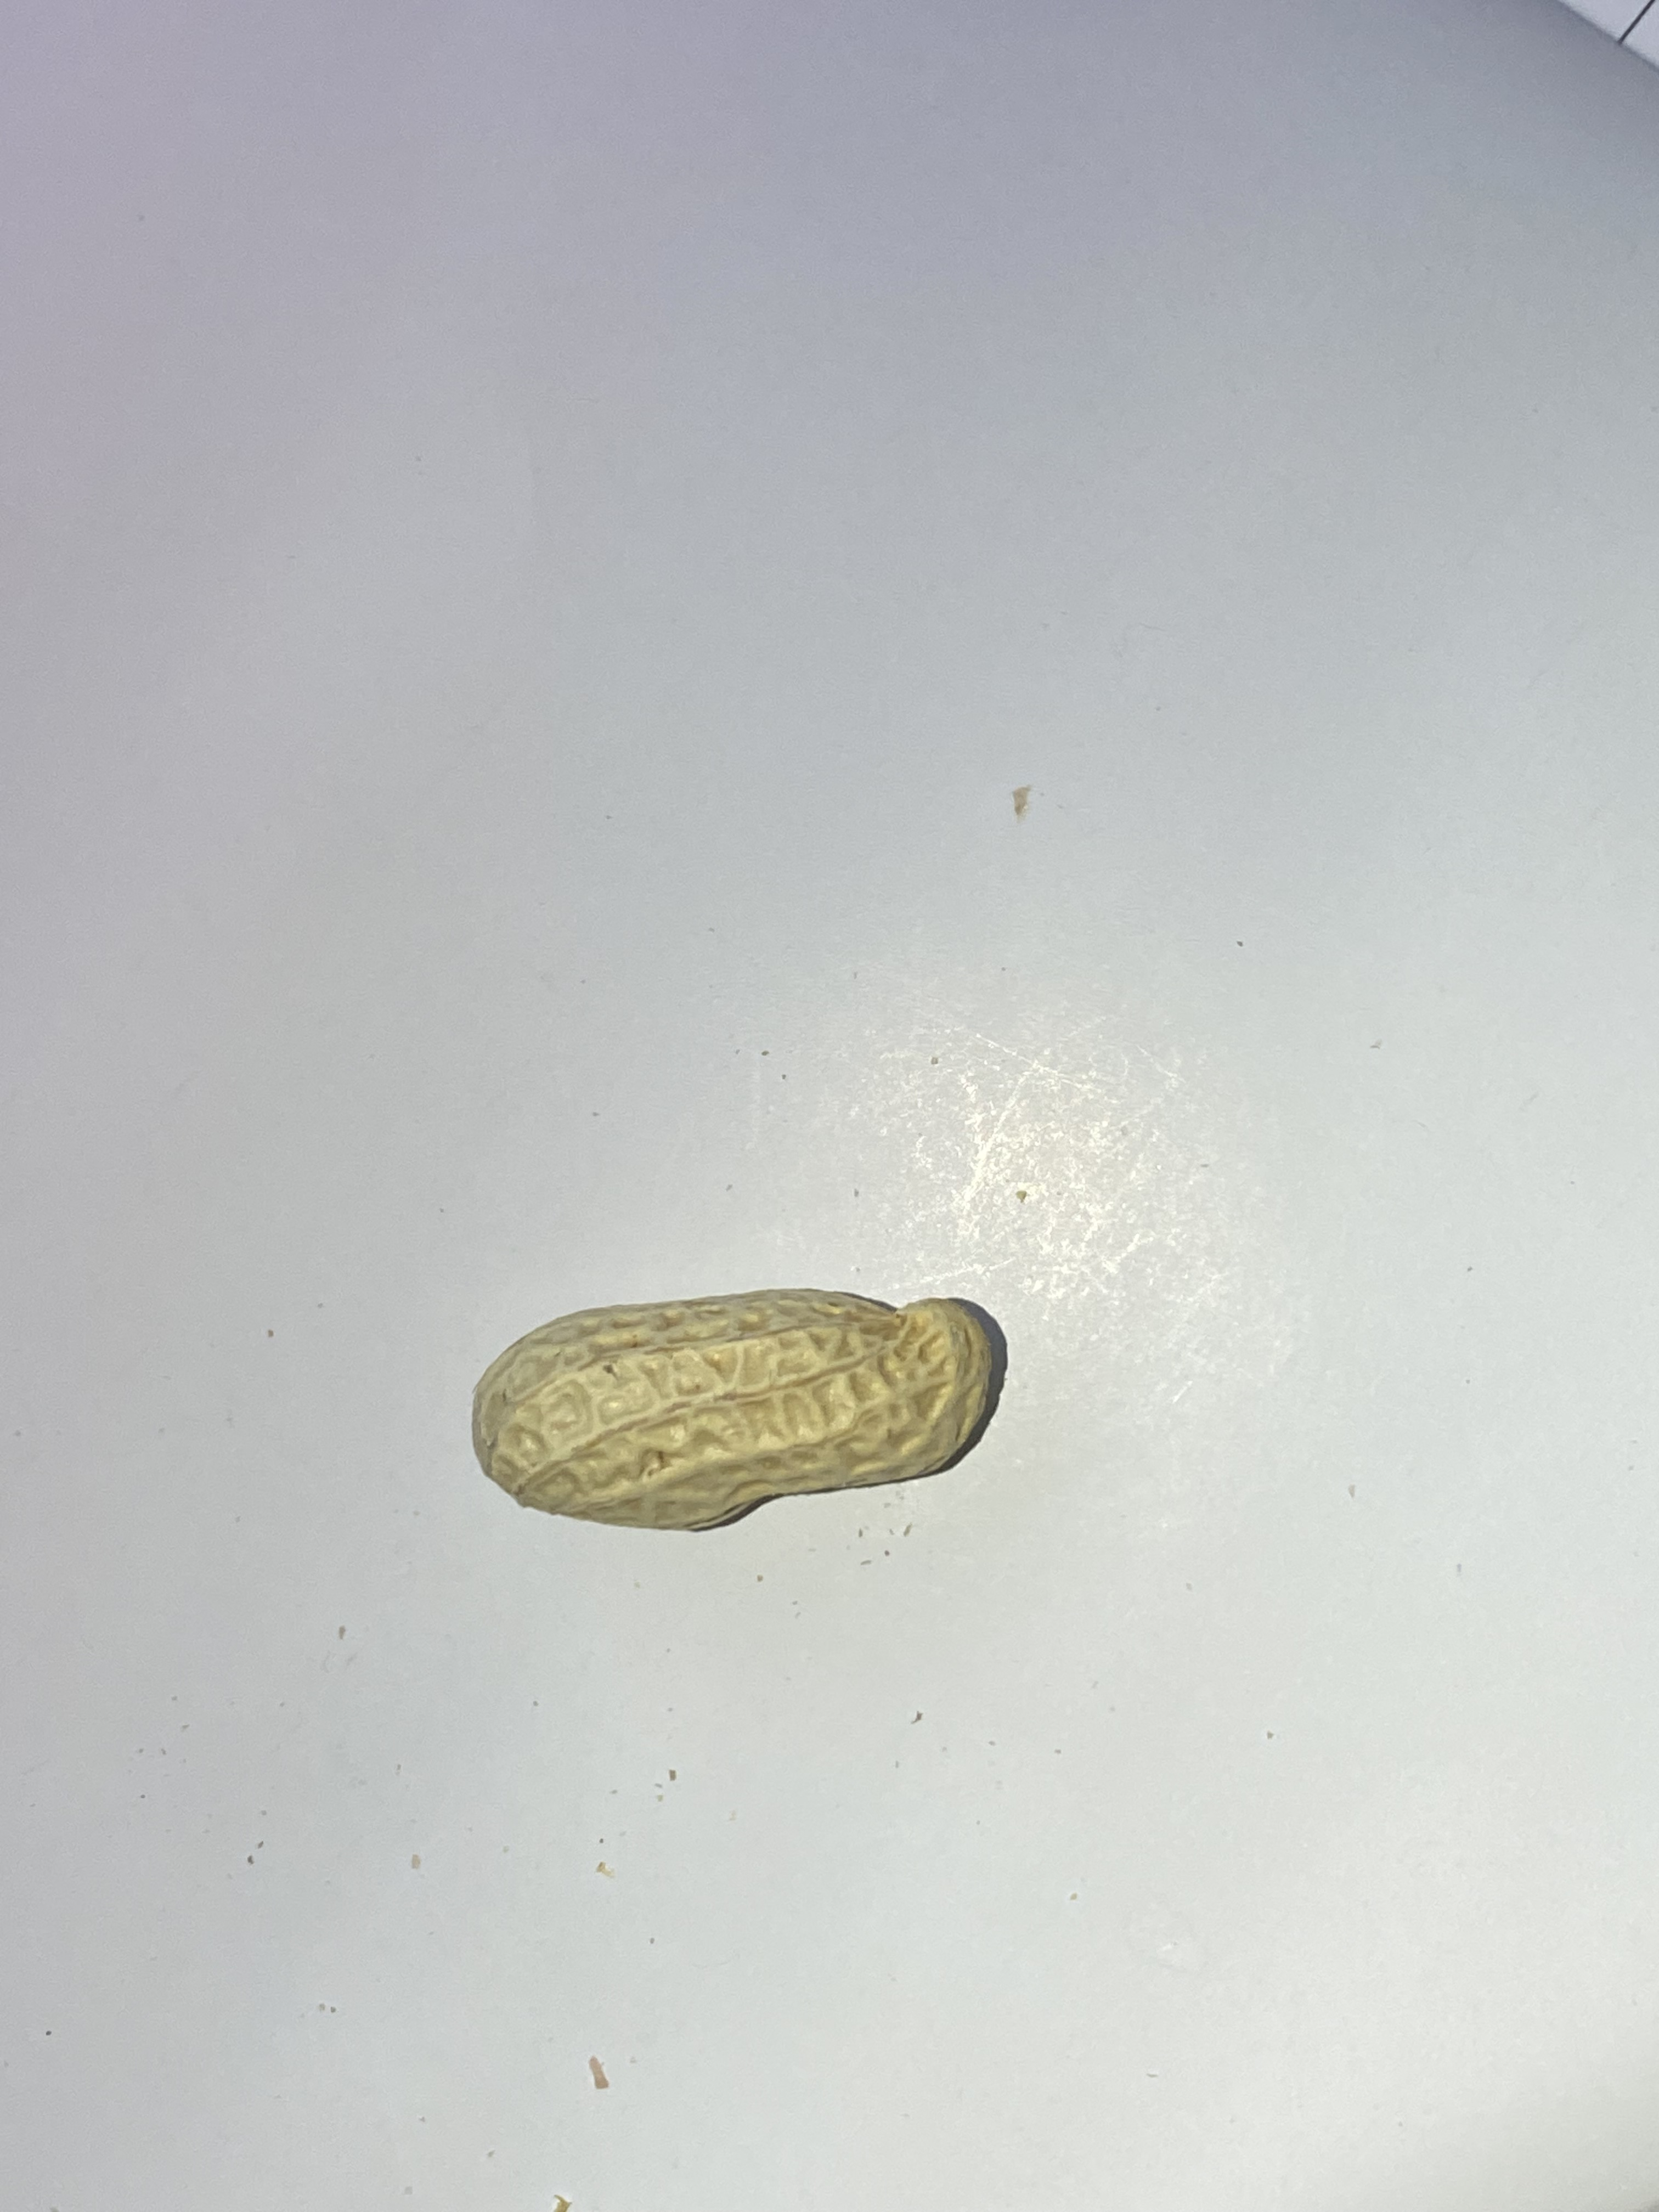kacang2: (464, 1247, 1080, 1552)
